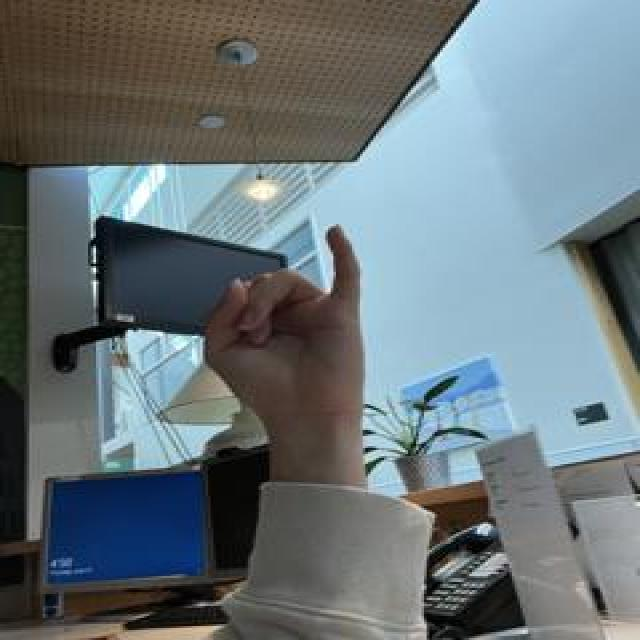I: (197, 217, 376, 423)
